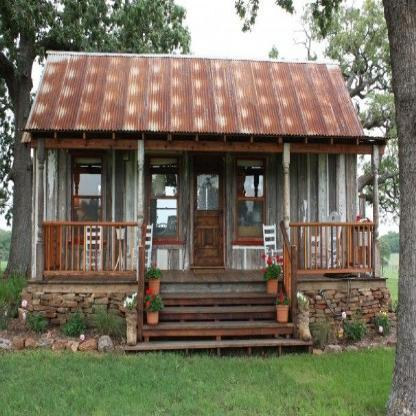Building Outline: (17, 50, 395, 356)
Dont: (259, 252, 290, 323), (143, 262, 165, 326), (262, 223, 284, 268)
Door: (191, 156, 226, 268)
Facade: (33, 113, 358, 351)
Ground Floor: (32, 133, 358, 284)
Pillar: (36, 138, 45, 280), (371, 144, 380, 278), (137, 139, 144, 282), (283, 143, 290, 280)
Roof: (21, 50, 392, 144)
Window: (146, 156, 179, 244), (72, 154, 103, 244), (236, 158, 266, 245)
